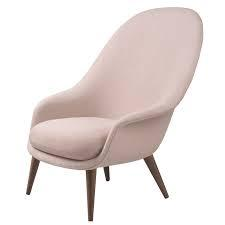chair: (25, 5, 198, 213)
